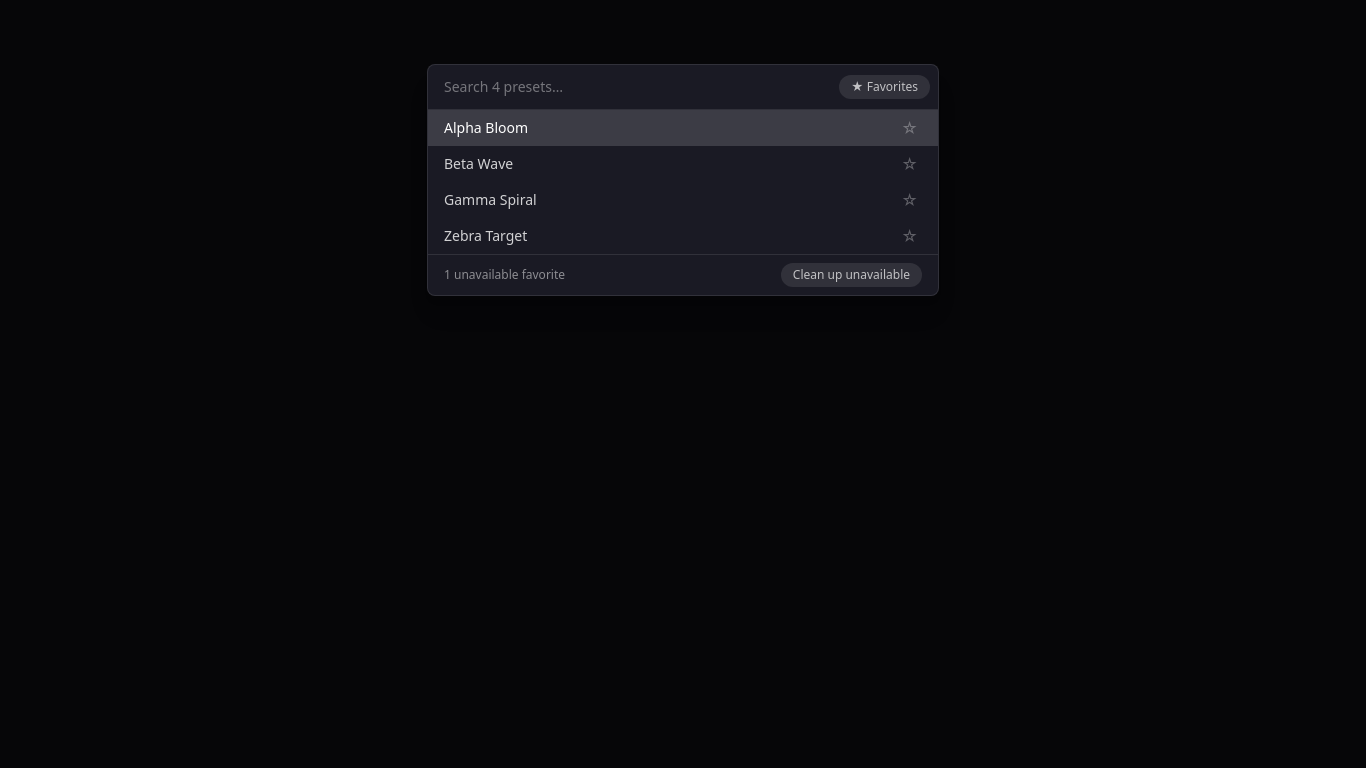
Test: PresetSearch › clicking "Clean up unavailable" reveals the confirmation and does NOT delete
Click the button "Clean up unavailable": (851, 275) [781,263,922,287]
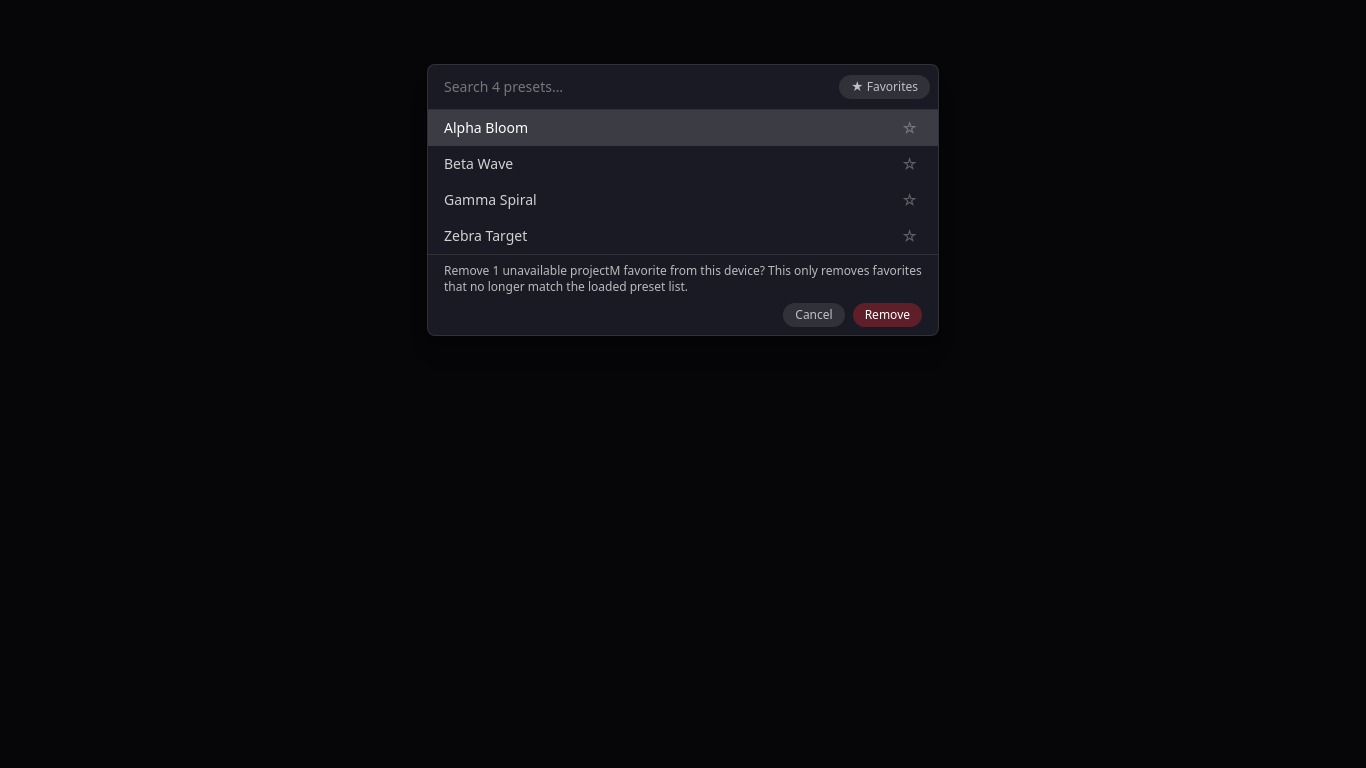
Expected: the button "Cancel" is shown, [783,303,845,327]
Expected: the button "Remove" is shown, [853,303,922,327]
